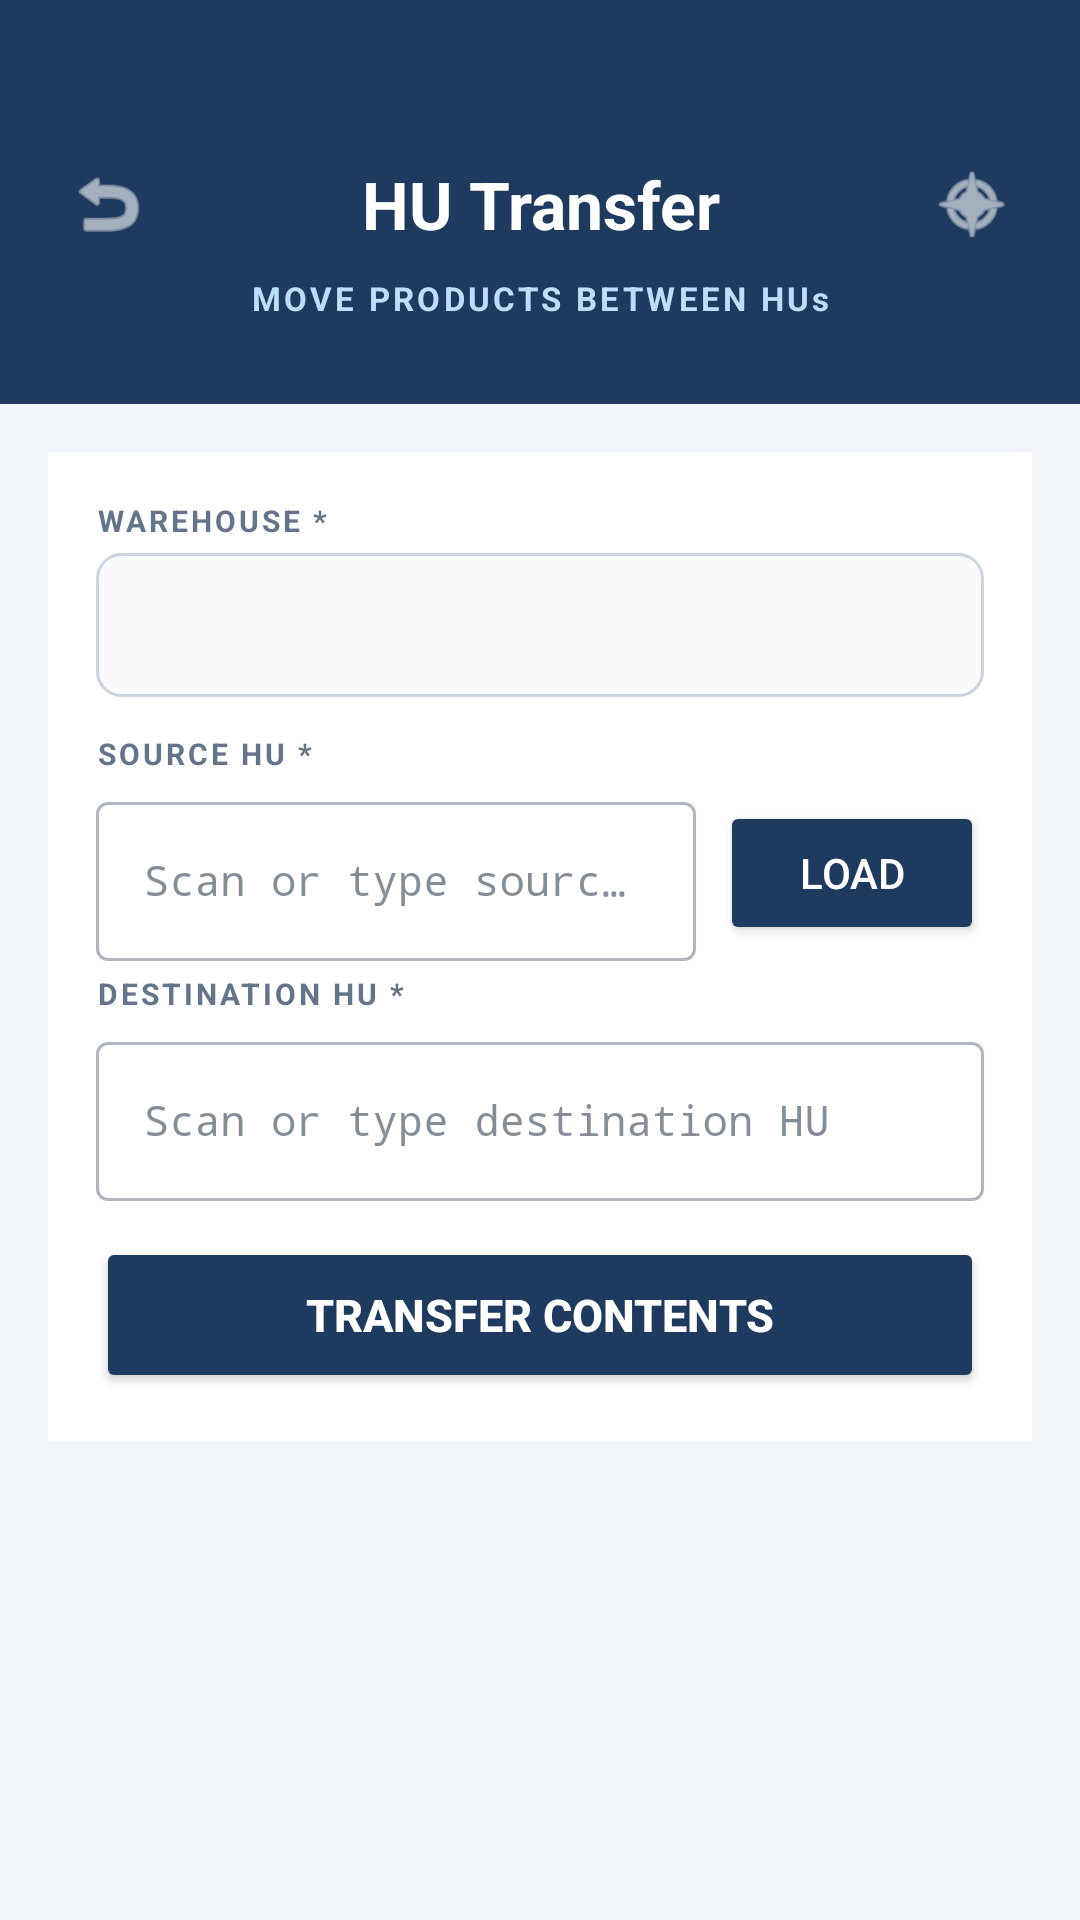

Screen size 1080px x 1920px. Icon name, then its box in pixels as box=[x1, y1, x2, y2]:
compass: box=[939, 171, 1005, 238]
revert: box=[79, 177, 139, 232]
